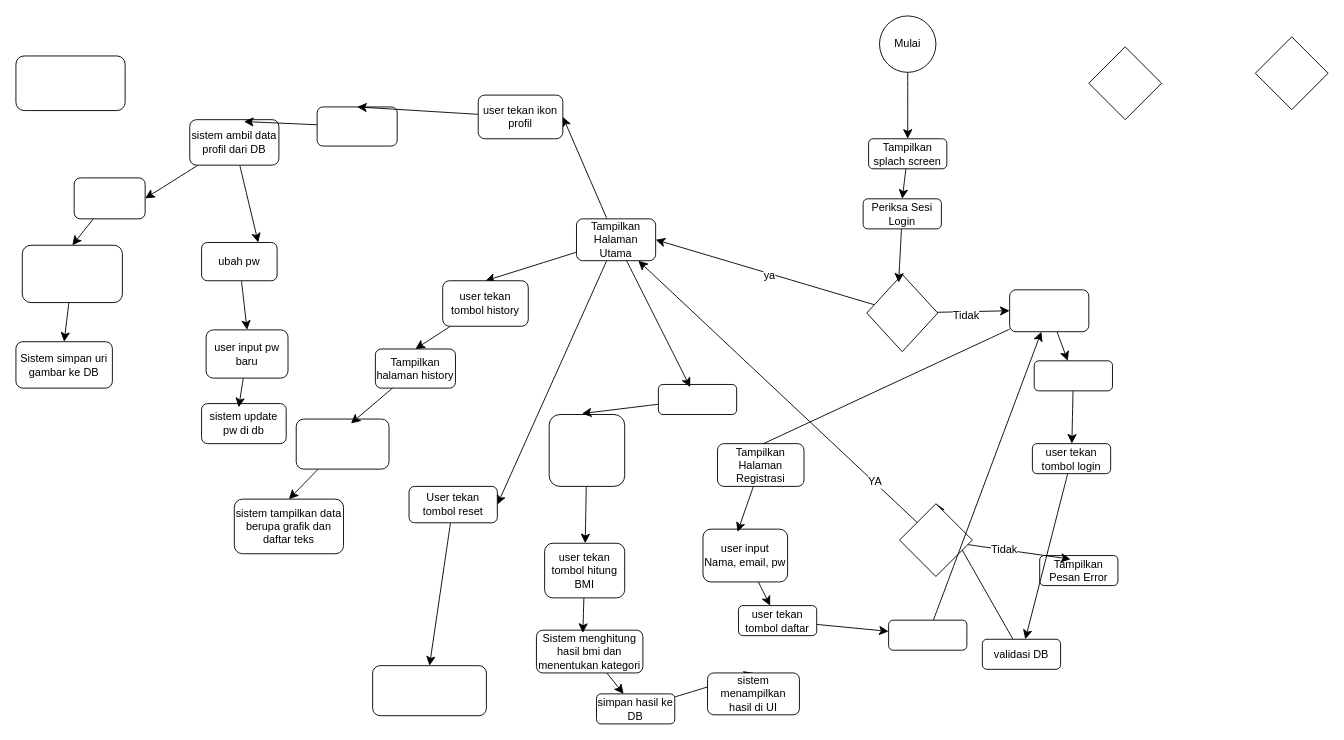
Image size: 1344x740. Some labels were removed from this diagram. Each missing label, with the box of its shape:
Data Valid?: (899, 503, 972, 576)
Pengguna Sudah Login?: (866, 273, 938, 352)
Restore user baru ke DB: (888, 619, 967, 650)
sistem ambil data riwayat di db: (295, 418, 389, 469)
Sistem mengembalikan semua input ke nilai default: (372, 665, 486, 716)
Tampilkan Halaman Login: (1009, 289, 1089, 332)
Tampilkan halaman profil: (316, 106, 397, 146)
tekan tombol "ubah foto" dan pilih gambar baru: (21, 244, 122, 303)
ubah foto profil: (73, 177, 145, 219)
User di halaman utama: (657, 384, 737, 415)
user input email & pw: (1033, 360, 1112, 391)
user input Usia, Jenis Kelamin, Tinggi, dan Berat: (548, 414, 625, 486)
